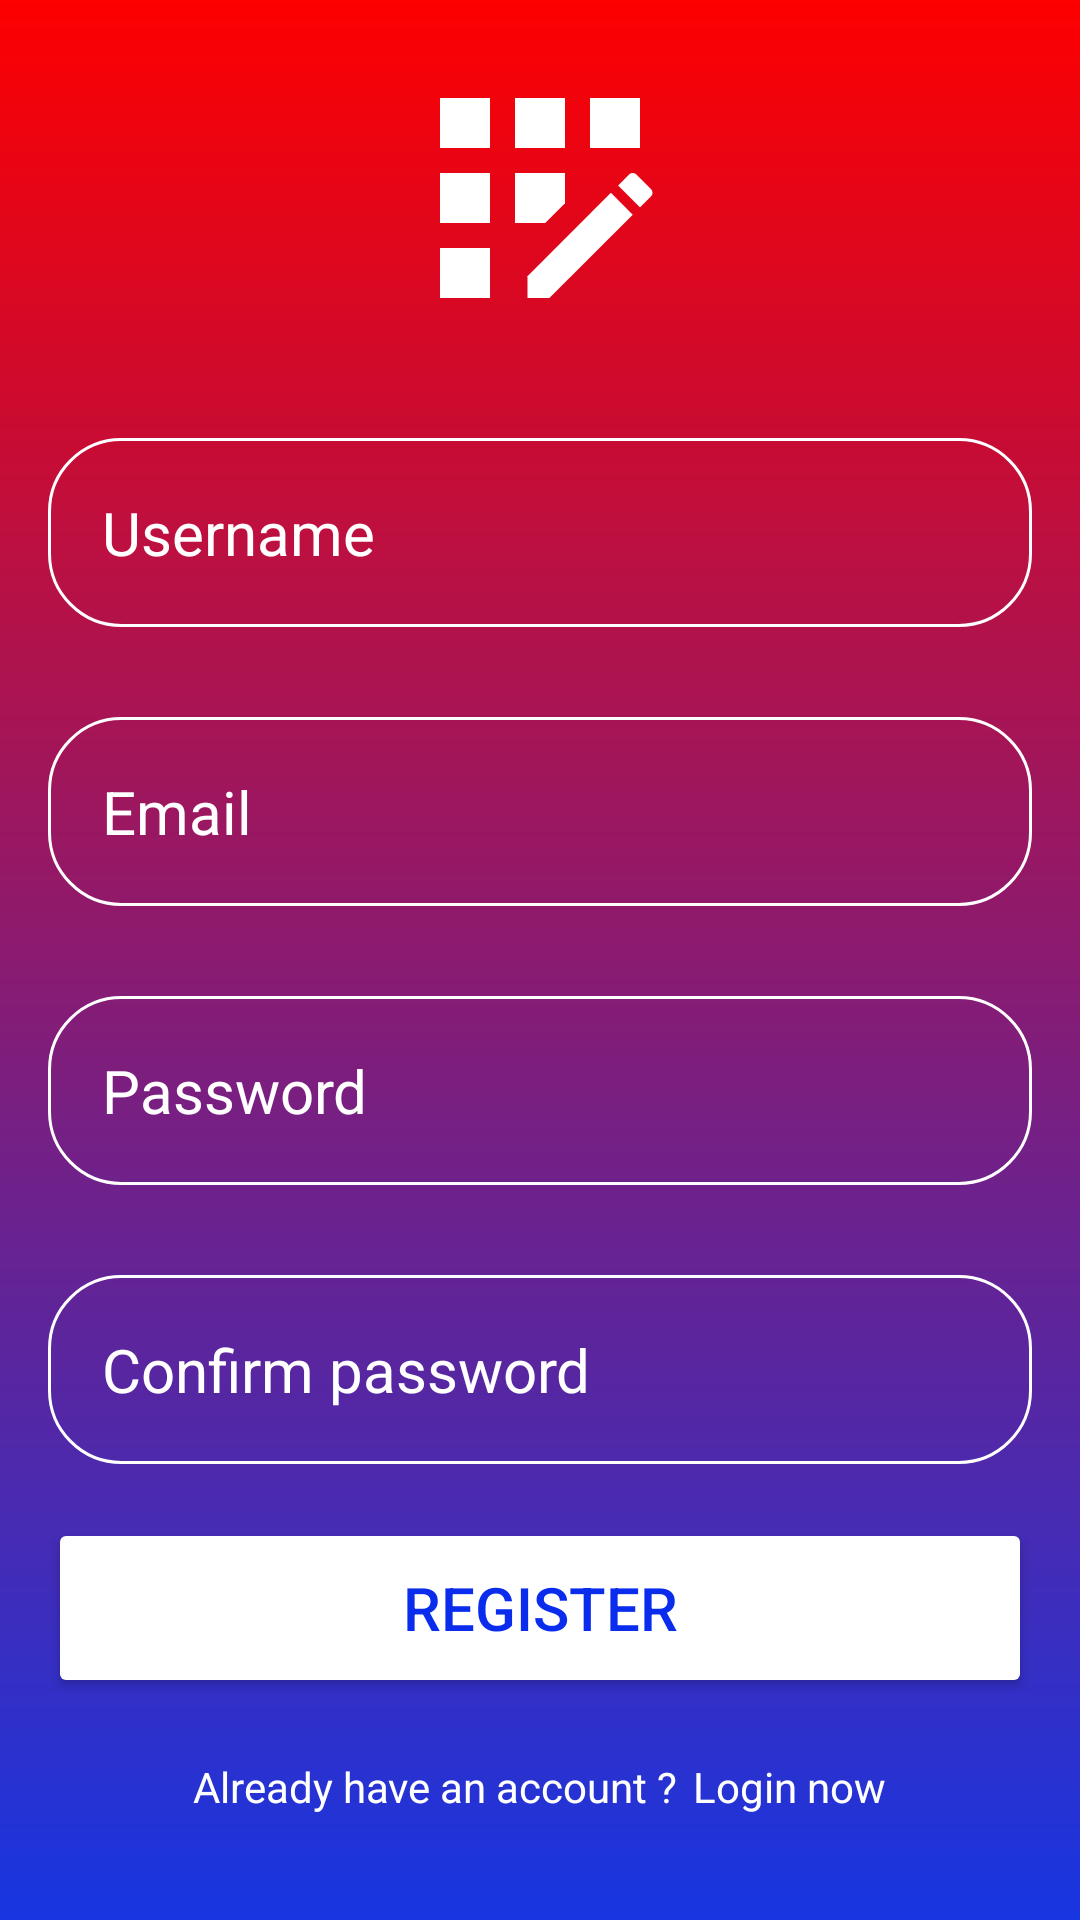

Point at icon controls on the screen. Image size 1080px×1920px, points as (x=x, y=y).
registration: (x=540, y=198)
